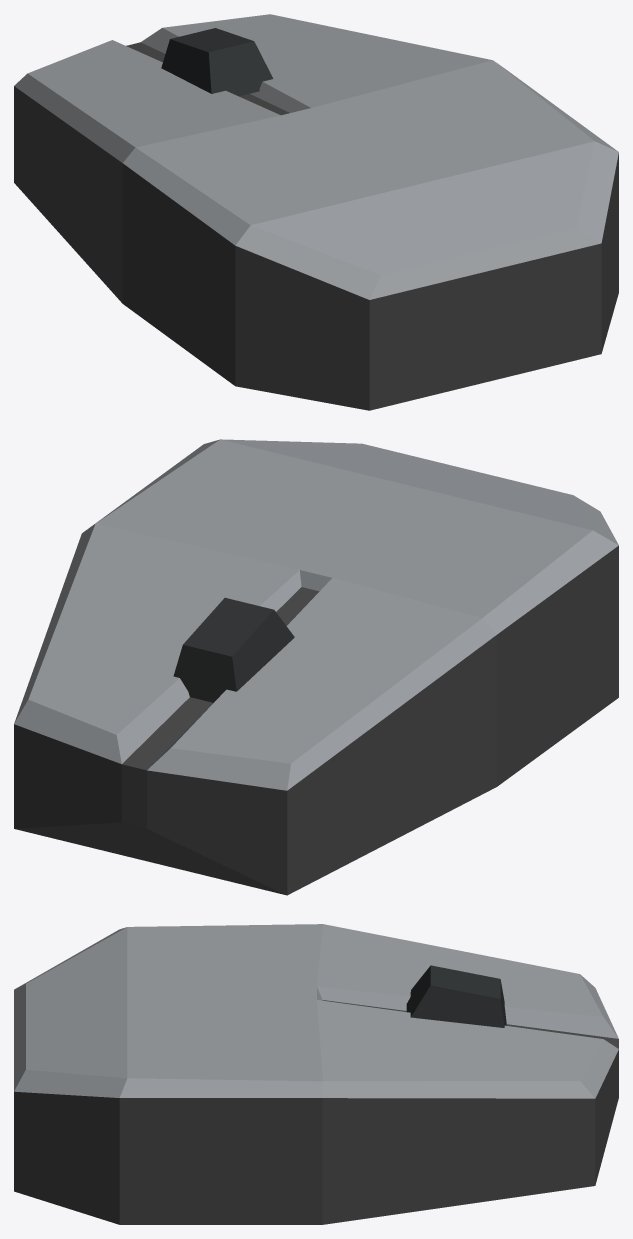
The model's file is SM_Prop_Computer_Mouse_01_596.obj.
The picture shows the model from 3 angles, top to bottom: view 1: azimuth 30°, elevation 25°; view 2: azimuth 150°, elevation 25°; view 3: azimuth 270°, elevation 25°; orthographic projection. The views are drawn at different scales.
Visible parts, largest first — view 1: SM_Prop_Computer_Mouse_01_0; view 2: SM_Prop_Computer_Mouse_01_0; view 3: SM_Prop_Computer_Mouse_01_0.
Boxes of the visible parts, bbox=[...] form: SM_Prop_Computer_Mouse_01_0: bbox=[14, 14, 618, 410]; SM_Prop_Computer_Mouse_01_0: bbox=[14, 439, 618, 895]; SM_Prop_Computer_Mouse_01_0: bbox=[14, 924, 618, 1224].
Bounding box in the file's own units: 0.0854 × 0.0366 × 0.1294.
Materials: 1 (1 with a texture image).
